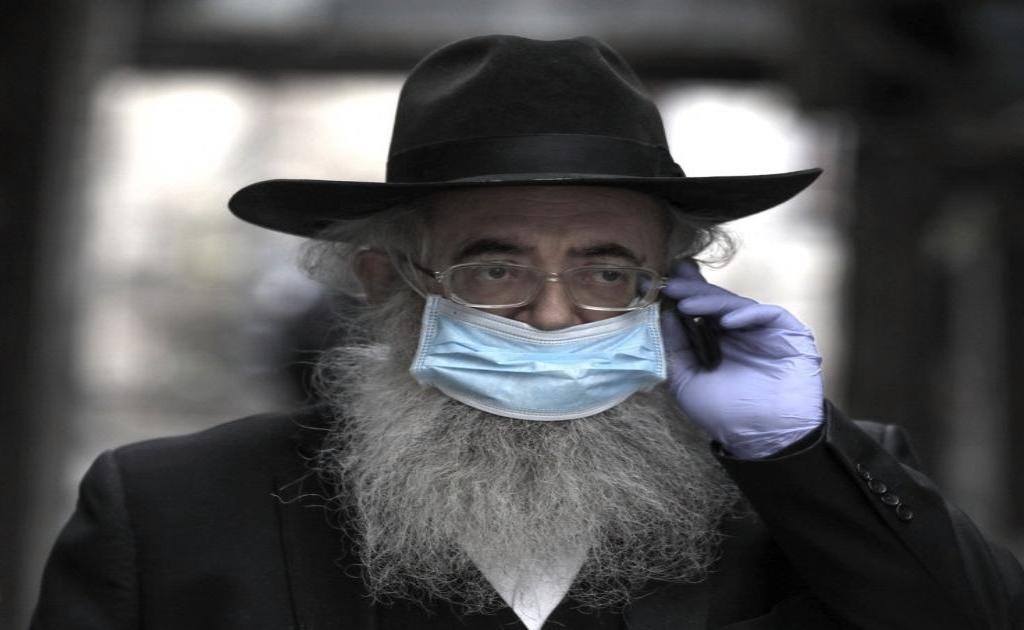mask_weared_incorrect: (357, 192, 688, 427)
